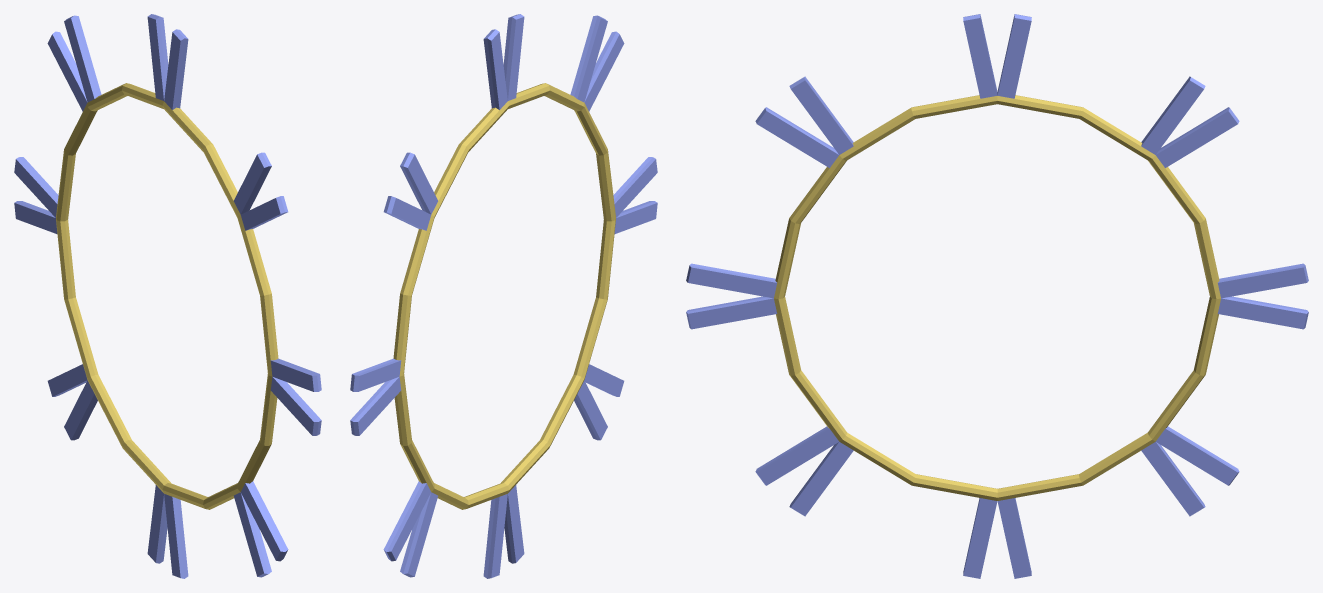
File: Checkpoint.fbx
3 views of the same model, side by side, from view 1: azimuth 30°, elevation 25°; view 2: azimuth 150°, elevation 25°; view 3: azimuth 270°, elevation 25° (orthographic). The views are drawn at different scales.
Parts seen in each view (by area): view 1: Torus; view 2: Torus; view 3: Torus.
Part boxes in pixels (left/top/right/bottom): Torus: left=14, top=14, right=321, bottom=578; Torus: left=350, top=14, right=657, bottom=578; Torus: left=686, top=14, right=1308, bottom=578.
Size of the model in its own units: 2845 by 60 by 2845.
